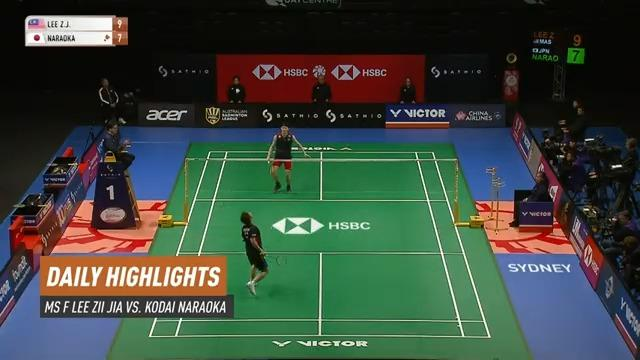Shuttlecock: (232, 86, 242, 94)
